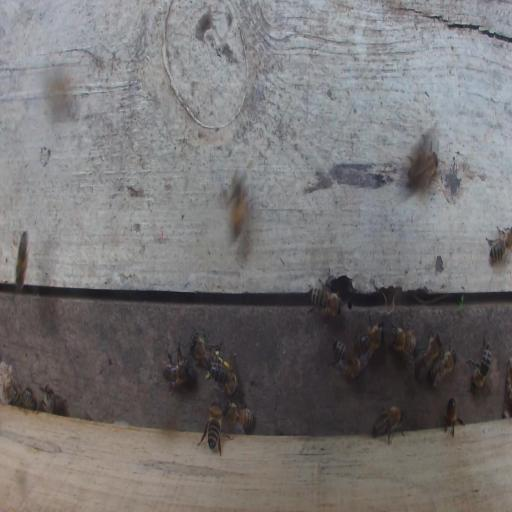nonpollenbee: (196, 400, 234, 457), (356, 308, 386, 368), (405, 139, 439, 187), (307, 276, 343, 319), (466, 333, 492, 392), (162, 341, 192, 388), (372, 405, 406, 446), (414, 332, 443, 380), (189, 324, 220, 368), (328, 341, 361, 380), (427, 349, 458, 388), (222, 399, 255, 435), (485, 225, 512, 267), (388, 323, 417, 360), (444, 395, 464, 438), (14, 231, 28, 289), (37, 388, 57, 414), (24, 386, 37, 413)
pollenbee: (210, 351, 241, 396)
